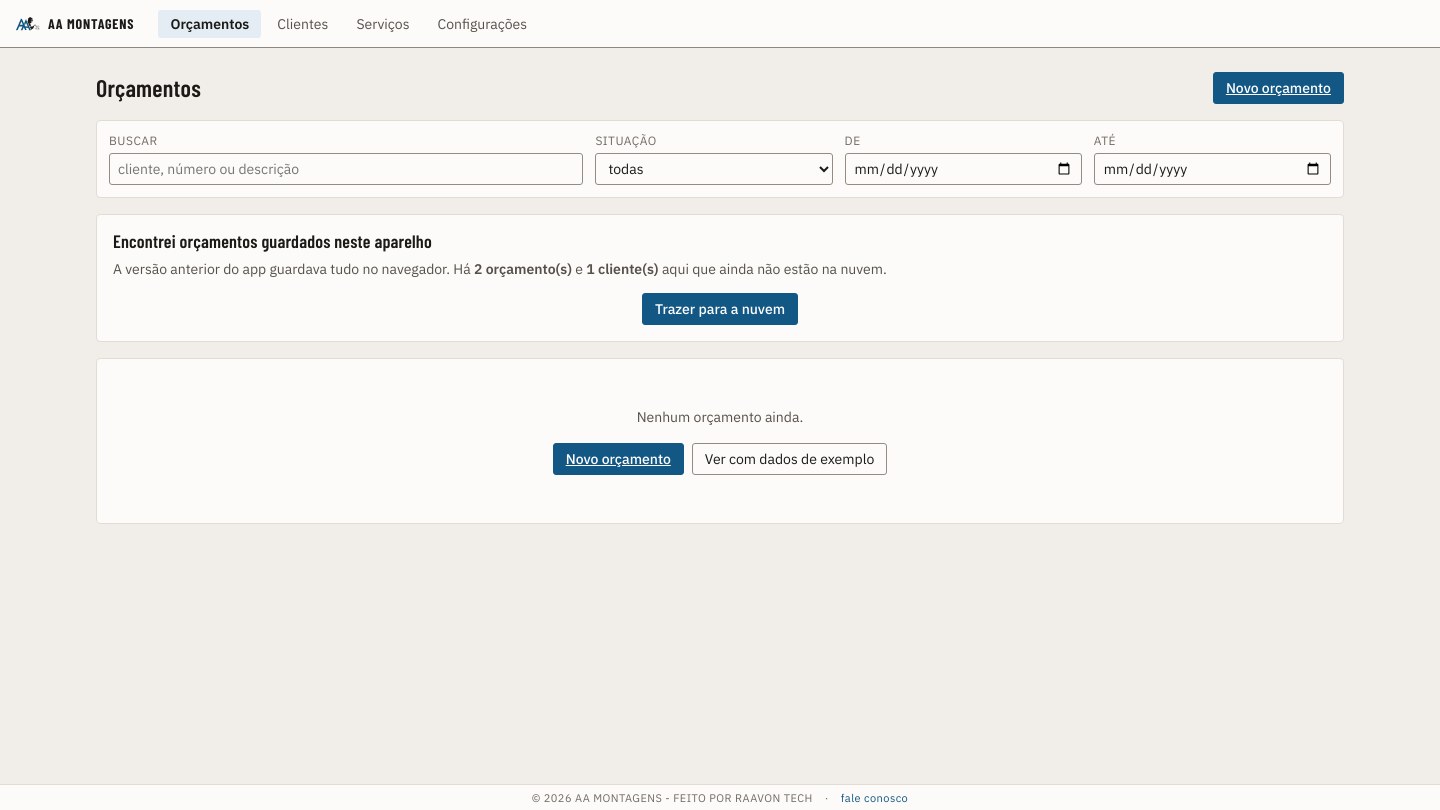
Test: oferta de migração › com a nuvem vazia e dados no aparelho, oferece — e traz tudo de uma vez
Expected: the heading "Encontrei orçamentos guardados neste aparelho" is shown, [113,230,432,252]
Expected: the text "2 orçamento(s)" is shown, [474,260,572,278]
Click the button "Trazer para a nuvem": coordinates (720, 309) [642,293,798,325]
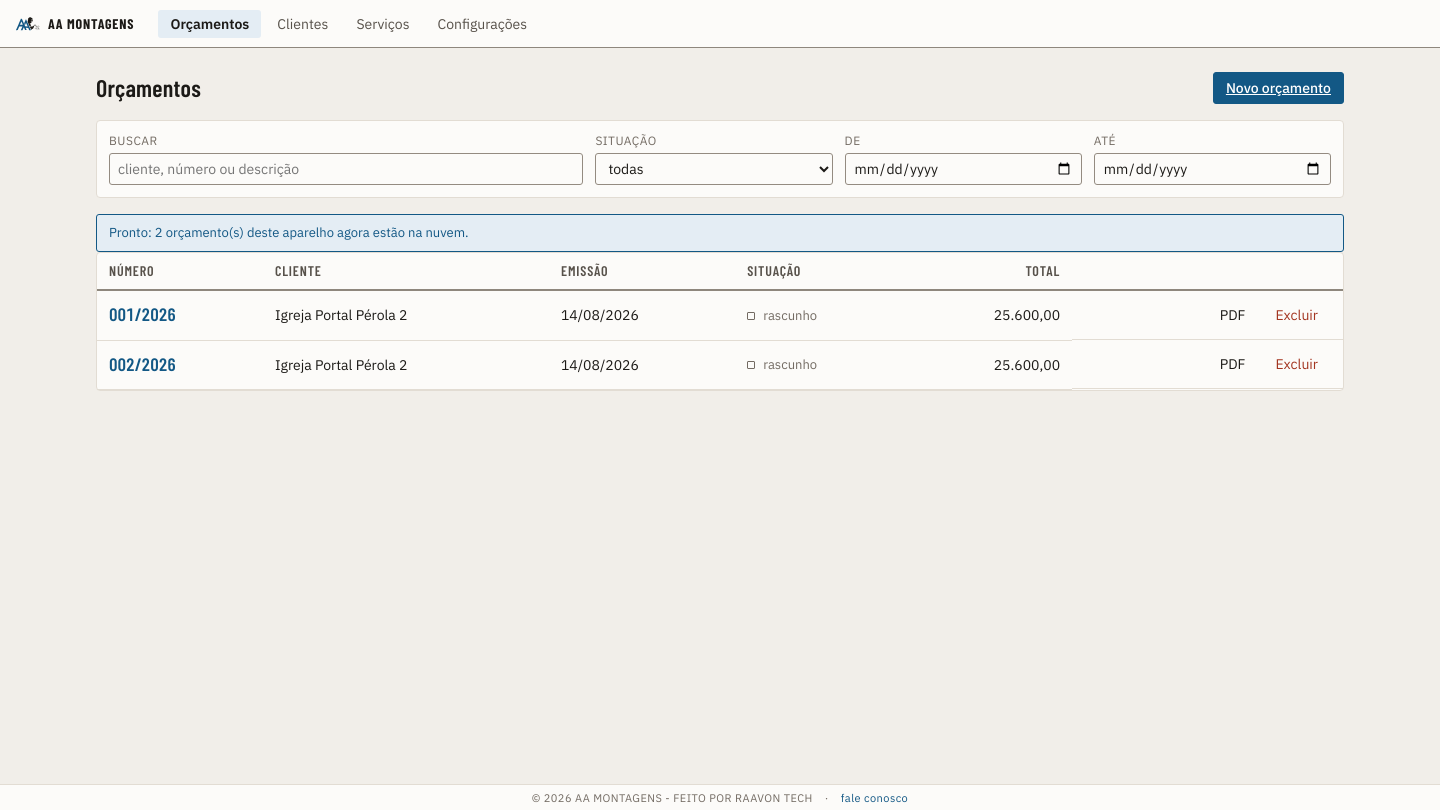
Expected: the message reads "Pronto: 2 orçamento(s) deste aparelho agora estão na nuvem.", [96,214,1344,252]
